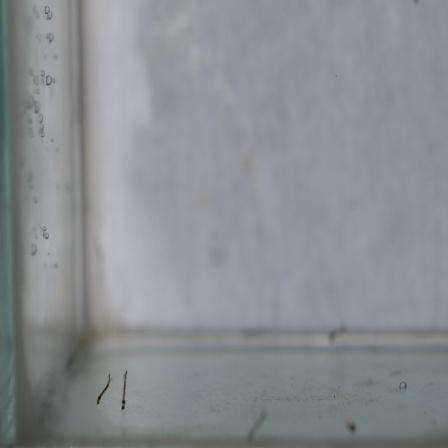Jentik-Nyamuk: (93, 368, 114, 412), (115, 365, 133, 416)
